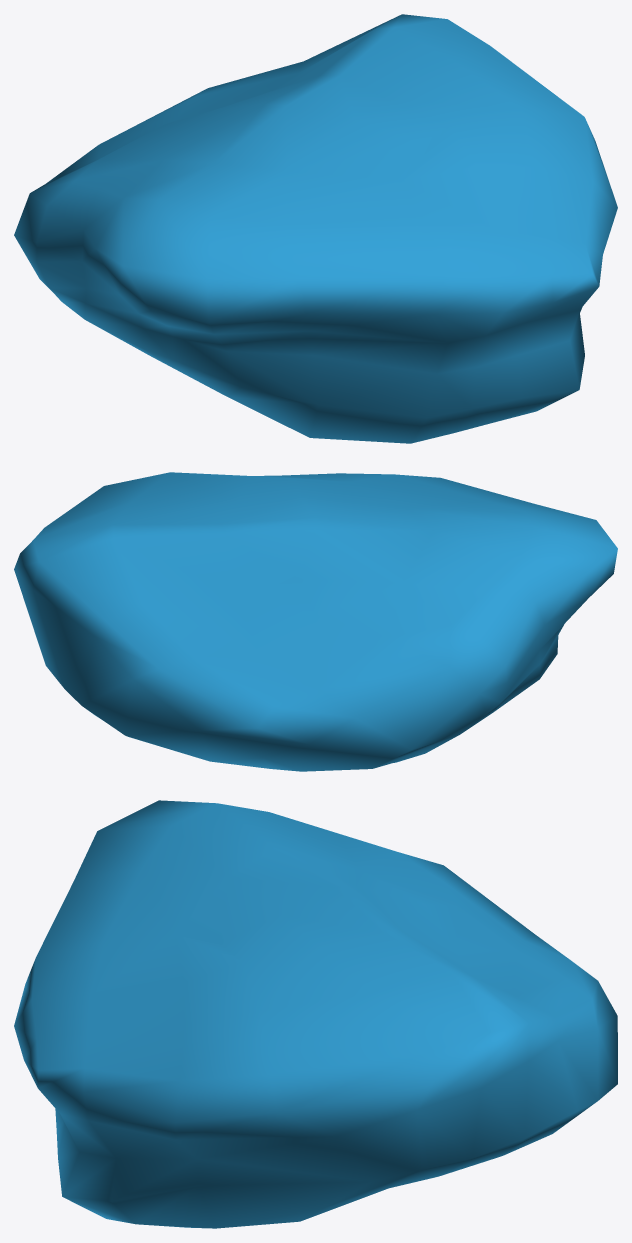
The model's file is Rock_S_01_Lod0.fbx.
3 views of the same model, one above another, from view 1: azimuth 30°, elevation 25°; view 2: azimuth 150°, elevation 25°; view 3: azimuth 270°, elevation 25° (orthographic). The views are drawn at different scales.
Parts seen in each view (by area): view 1: Rock_S_01_Lod0; view 2: Rock_S_01_Lod0; view 3: Rock_S_01_Lod0.
Boxes of the visible parts, left/top/right/bottom form: Rock_S_01_Lod0: left=14, top=14, right=617, bottom=443; Rock_S_01_Lod0: left=14, top=472, right=617, bottom=771; Rock_S_01_Lod0: left=14, top=800, right=617, bottom=1228.
Size of the model in its own units: 484 by 237 by 466.
